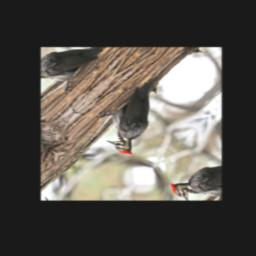Woodpecker: (85, 68, 192, 159)
